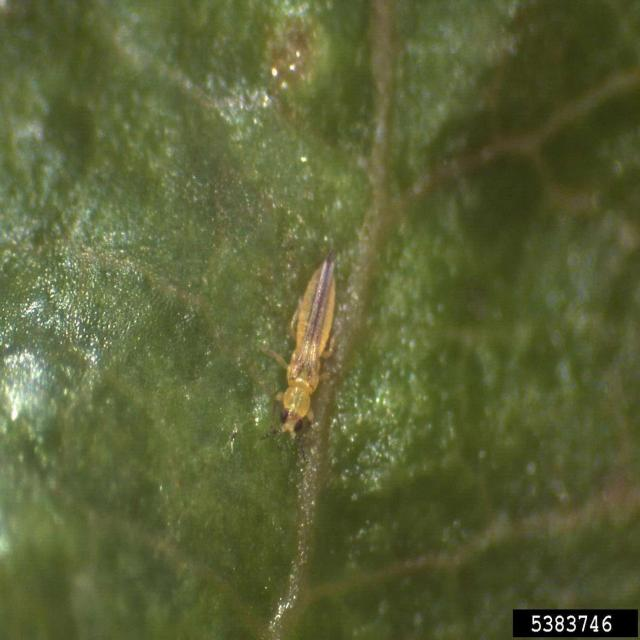Thrip-Adult-: (258, 244, 364, 450)
